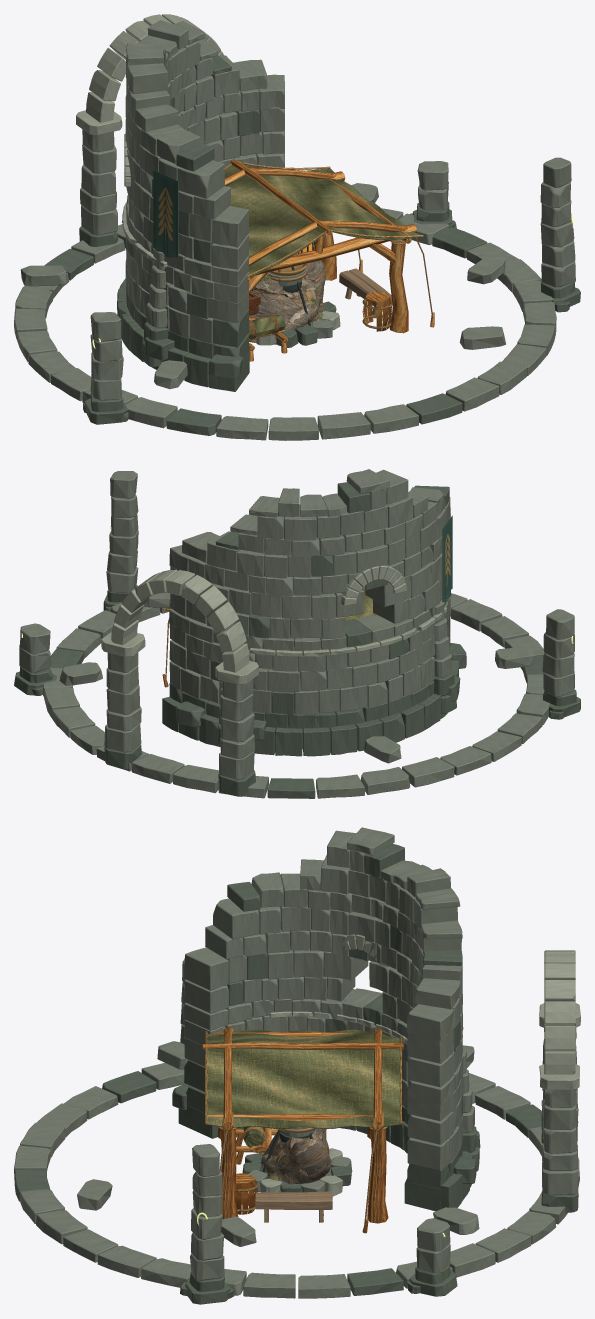
The model's file is camp-standard-r16.glb.
3 views of the same model, one above another, from view 1: azimuth 30°, elevation 25°; view 2: azimuth 150°, elevation 25°; view 3: azimuth 270°, elevation 25° (orthographic). The views are drawn at different scales.
Parts seen in each view (by area): view 1: watchtower_r8_mesh, moonSanctum_r8_mesh, campShelter_r16_mesh, hearth_r8_mesh, boulder_r16_natural_mesh, boulderLow_r16_natural_mesh, relicStand_r8_mesh; view 2: watchtower_r8_mesh, moonSanctum_r8_mesh, campShelter_r16_mesh; view 3: watchtower_r8_mesh, moonSanctum_r8_mesh, campShelter_r16_mesh, hearth_r8_mesh, boulderLow_r16_natural_mesh, boulder_r16_natural_mesh.
Boxes of the visible parts, x1,y1,x2,y2 form: watchtower_r8_mesh: (20,20,505,391); moonSanctum_r8_mesh: (14,14,580,440); campShelter_r16_mesh: (224,159,434,361); hearth_r8_mesh: (250,266,392,347); boulder_r16_natural_mesh: (249,273,324,344); boulderLow_r16_natural_mesh: (249,260,325,342); relicStand_r8_mesh: (267,263,312,331); watchtower_r8_mesh: (59,469,534,763); moonSanctum_r8_mesh: (14,471,580,798); campShelter_r16_mesh: (162,589,375,687); watchtower_r8_mesh: (77,827,480,1246); moonSanctum_r8_mesh: (14,950,580,1304); campShelter_r16_mesh: (202,1027,403,1233); hearth_r8_mesh: (242,1129,352,1222); boulderLow_r16_natural_mesh: (260,1138,331,1192); boulder_r16_natural_mesh: (262,1128,329,1184).
Bounding box in the file's own units: 14.11 × 7.64 × 13.47.
Materials: 7 (7 with a texture image).
